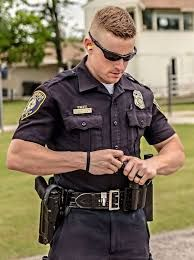gun: (24, 175, 62, 244)
uniform: (31, 71, 156, 251)
